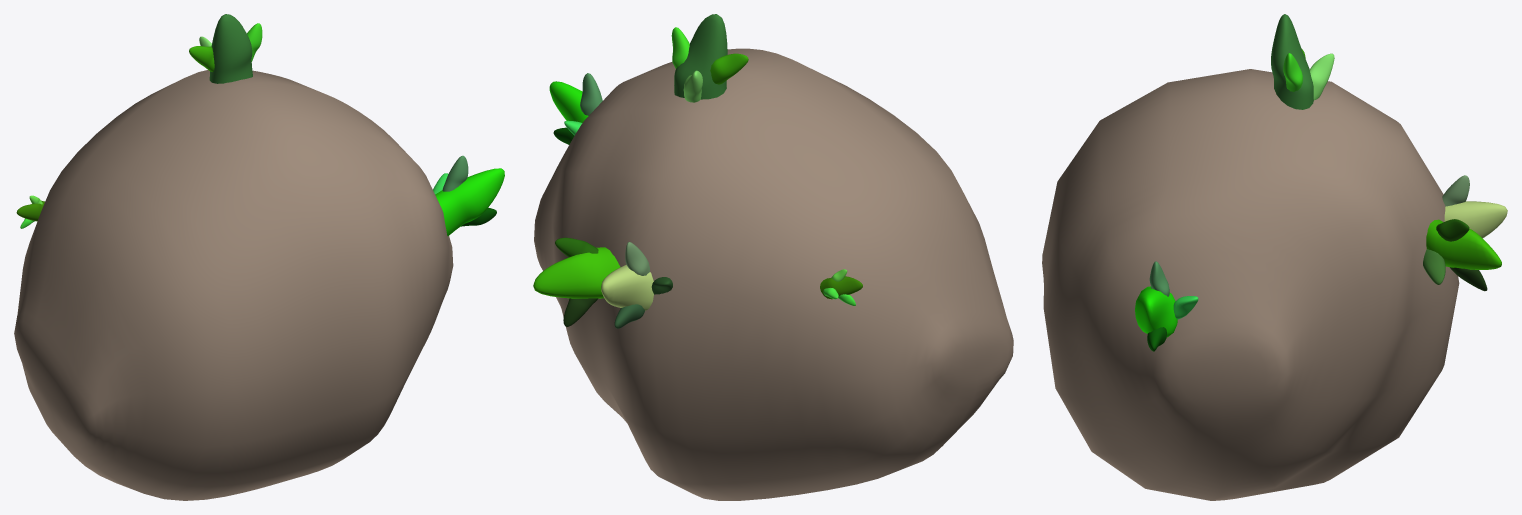
Rendered from pseed.glb.
The picture shows the model from 3 angles, left to right: view 1: azimuth 30°, elevation 25°; view 2: azimuth 150°, elevation 25°; view 3: azimuth 270°, elevation 25°; orthographic projection. The views are drawn at different scales.
Visible parts, largest first — view 1: Plane, Plane.009, Plane.001, Plane.011; view 2: Plane, Plane.017, Plane.001, Plane.013, Plane.009, Plane.003, Plane.011, Plane.019, Plane.015, Plane.005, Plane.018, Plane.002; view 3: Plane, Plane.001, Plane.017, Plane.009, Plane.013, Plane.004, Plane.020, Plane.015, Plane.002, Plane.018.
Part boxes in pixels (bbox=[...]): Plane: bbox=[14, 70, 453, 500]; Plane.009: bbox=[435, 168, 504, 235]; Plane.001: bbox=[209, 14, 252, 83]; Plane.011: bbox=[442, 155, 468, 191]; Plane: bbox=[534, 48, 1013, 500]; Plane.017: bbox=[533, 247, 620, 298]; Plane.001: bbox=[674, 14, 727, 99]; Plane.013: bbox=[601, 265, 653, 310]; Plane.009: bbox=[549, 81, 588, 122]; Plane.003: bbox=[710, 53, 748, 84]; Plane.011: bbox=[580, 73, 602, 115]; Plane.019: bbox=[563, 298, 598, 326]; Plane.015: bbox=[625, 242, 649, 275]; Plane.005: bbox=[820, 276, 862, 299]; Plane.018: bbox=[555, 237, 598, 257]; Plane.002: bbox=[671, 27, 689, 68]; Plane: bbox=[1042, 69, 1459, 500]; Plane.001: bbox=[1271, 14, 1313, 109]; Plane.017: bbox=[1426, 219, 1501, 269]; Plane.009: bbox=[1135, 286, 1177, 337]; Plane.013: bbox=[1444, 201, 1507, 238]; Plane.004: bbox=[1309, 53, 1334, 100]; Plane.020: bbox=[1423, 249, 1445, 284]; Plane.015: bbox=[1442, 175, 1469, 206]; Plane.002: bbox=[1283, 53, 1302, 91]; Plane.018: bbox=[1436, 219, 1469, 241].
Bounding box in the file's own units: 1.79 × 1.77 × 1.56.
